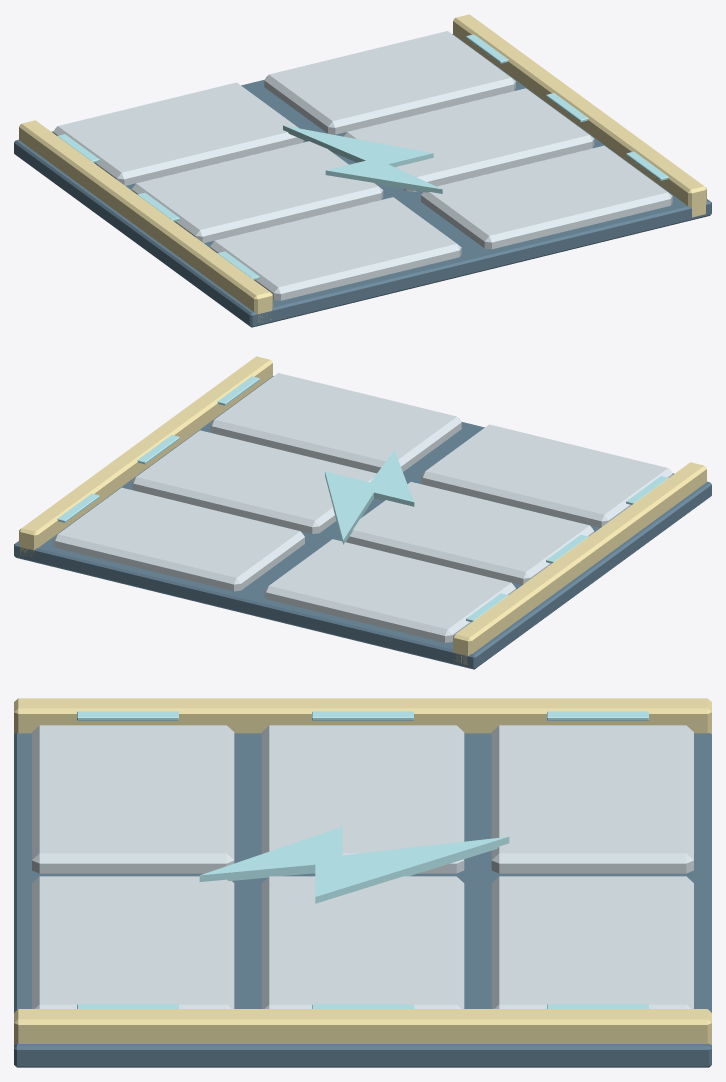
Rendered from Storm_RoadTile.fbx.
3 renders of one model, top to bottom at view 1: azimuth 30°, elevation 25°; view 2: azimuth 150°, elevation 25°; view 3: azimuth 270°, elevation 25°, orthographic. The views are drawn at different scales.
Parts seen in each view (by area): view 1: Storm_RoadTile; view 2: Storm_RoadTile; view 3: Storm_RoadTile.
Boxes of the visible parts, box(x1,y1,x2,y2) form: Storm_RoadTile: box(14, 14, 711, 327); Storm_RoadTile: box(14, 356, 711, 669); Storm_RoadTile: box(14, 698, 711, 1067).
Size of the model in its own units: 460 by 29.35 by 410.
